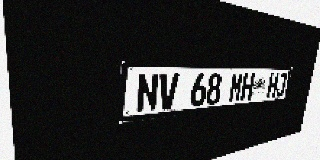6: (190, 73, 208, 107)
8: (205, 73, 223, 105)
H: (240, 73, 255, 101), (266, 73, 279, 98)
J: (275, 73, 287, 97)
M: (228, 73, 244, 103)
N: (136, 73, 159, 113)
V: (158, 73, 179, 111)
